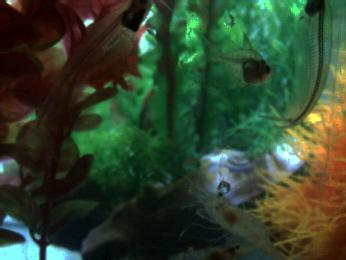X-ray fish: (205, 36, 274, 89)
glassfish: (25, 1, 156, 147), (264, 1, 341, 132)
siberian prawn: (181, 179, 284, 260), (166, 237, 259, 260)
